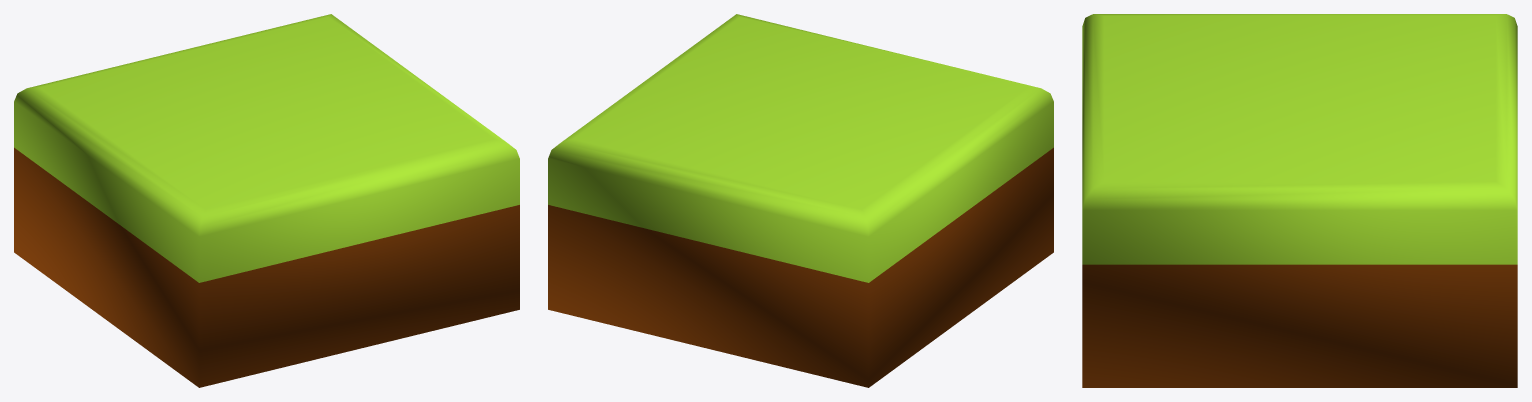
File: Tile-City.fbx
3 renders of one model, left to right at view 1: azimuth 30°, elevation 25°; view 2: azimuth 150°, elevation 25°; view 3: azimuth 270°, elevation 25°, orthographic. The views are drawn at different scales.
Visible parts, largest first — view 1: Floor2; view 2: Floor2; view 3: Floor2.
Boxes of the visible parts, x1,y1,x2,y2 form: Floor2: (14,14,519,387); Floor2: (548,14,1053,387); Floor2: (1082,14,1517,387).
Size of the model in its own units: 100 by 50 by 100.
